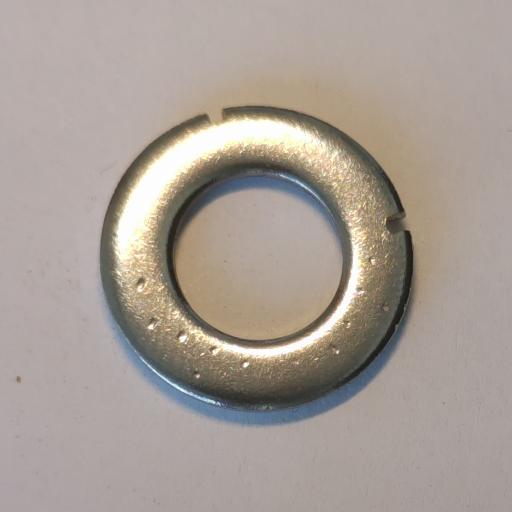burr: (204, 107, 228, 130), (386, 214, 411, 235)
